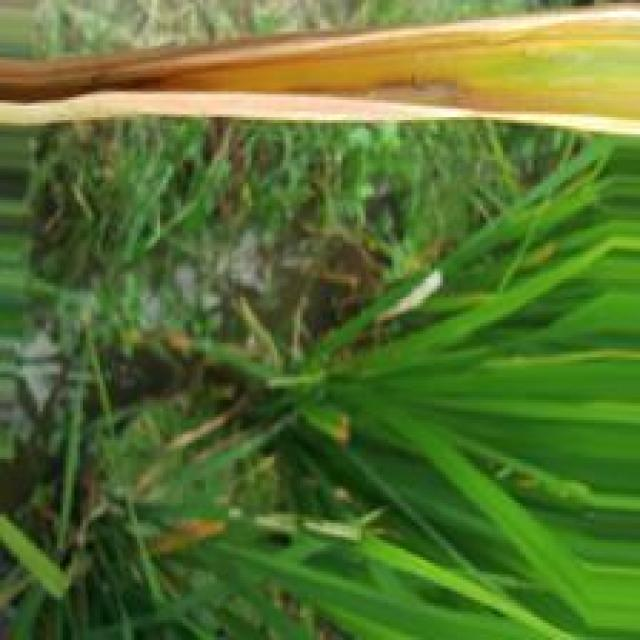Rice False Smut: (0, 5, 640, 123)
